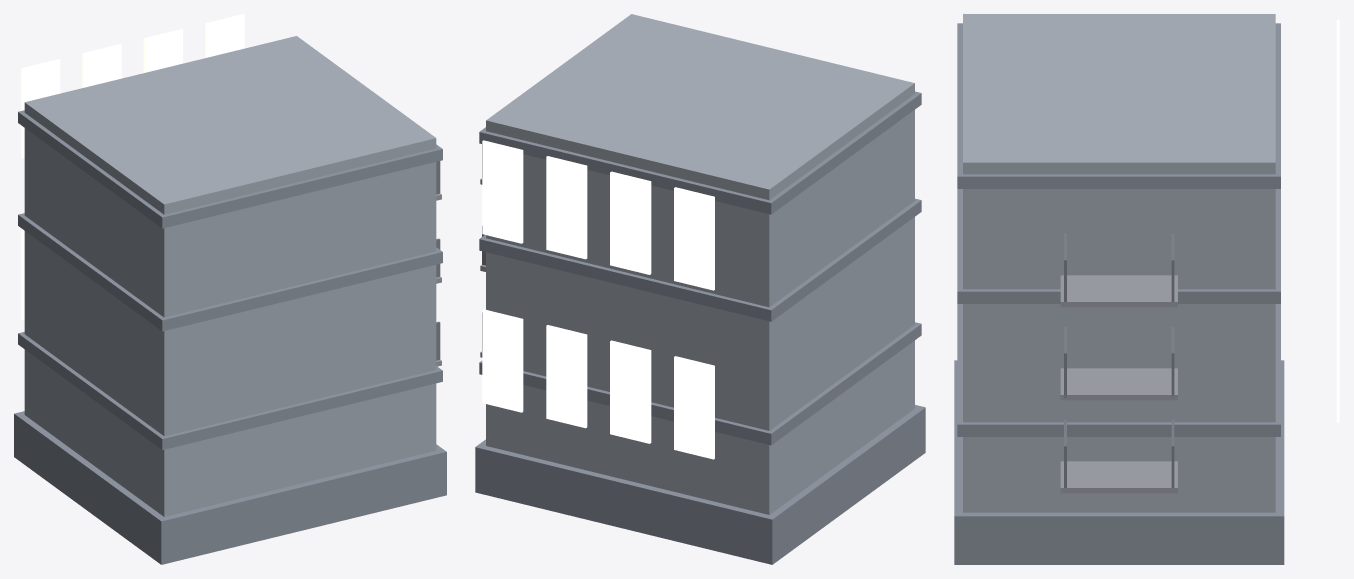
File: bld_arcade_c.glb
3 renders of one model, left to right at view 1: azimuth 30°, elevation 25°; view 2: azimuth 150°, elevation 25°; view 3: azimuth 270°, elevation 25°, orthographic. The views are drawn at different scales.
Parts seen in each view (by area): view 1: BldArcadeC_0, BldArcadeC_1, BldArcadeC_4; view 2: BldArcadeC_0, BldArcadeC_1, BldArcadeC_4; view 3: BldArcadeC_0, BldArcadeC_1, BldArcadeC_6, BldArcadeC_4, BldArcadeC_7.
Boxes of the visible parts, x1=… form: BldArcadeC_0: x1=24, y1=36, x2=436, y2=516; BldArcadeC_1: x1=14, y1=110, x2=446, y2=564; BldArcadeC_4: x1=21, y1=14, x2=244, y2=320; BldArcadeC_0: x1=486, y1=14, x2=914, y2=514; BldArcadeC_1: x1=475, y1=91, x2=925, y2=564; BldArcadeC_4: x1=482, y1=140, x2=714, y2=459; BldArcadeC_0: x1=963, y1=14, x2=1275, y2=512; BldArcadeC_1: x1=954, y1=23, x2=1284, y2=564; BldArcadeC_6: x1=1060, y1=275, x2=1177, y2=493; BldArcadeC_4: x1=1336, y1=19, x2=1339, y2=422; BldArcadeC_7: x1=1064, y1=233, x2=1174, y2=487.
Bounding box in the file's own units: 8.68 × 9.18 × 7.89.
